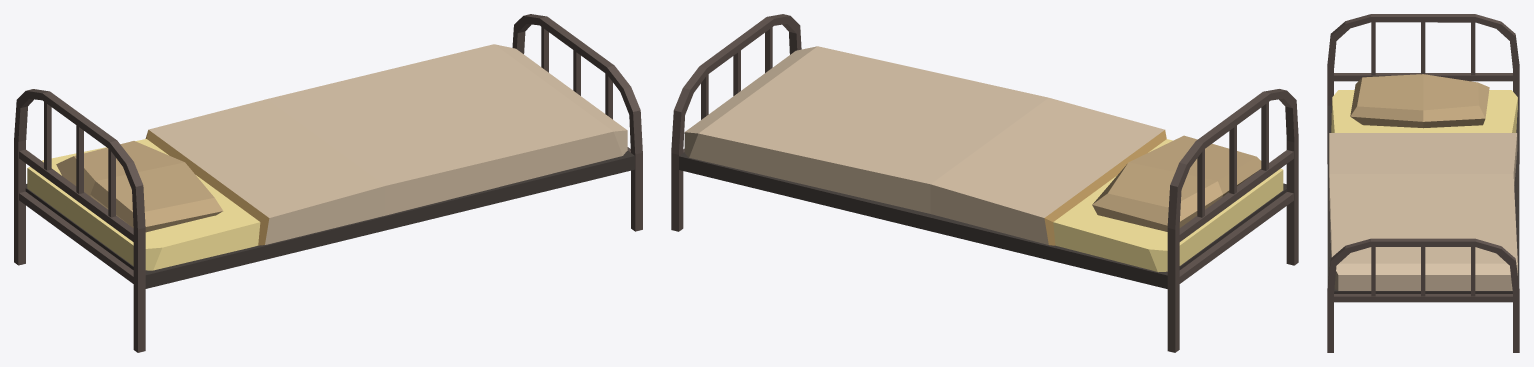
The model's file is PrisonBed.glb.
3 views of the same model, side by side, from view 1: azimuth 30°, elevation 25°; view 2: azimuth 150°, elevation 25°; view 3: azimuth 270°, elevation 25° (orthographic). The views are drawn at different scales.
Parts seen in each view (by area): view 1: cellBed; view 2: cellBed; view 3: cellBed.
Part boxes in pixels (left/top/right/bottom): cellBed: left=14, top=14, right=642, bottom=352; cellBed: left=671, top=14, right=1298, bottom=352; cellBed: left=1327, top=14, right=1519, bottom=352.
Size of the model in its own units: 2.14 by 0.7695 by 0.9092.
1 material, 1 textured.
